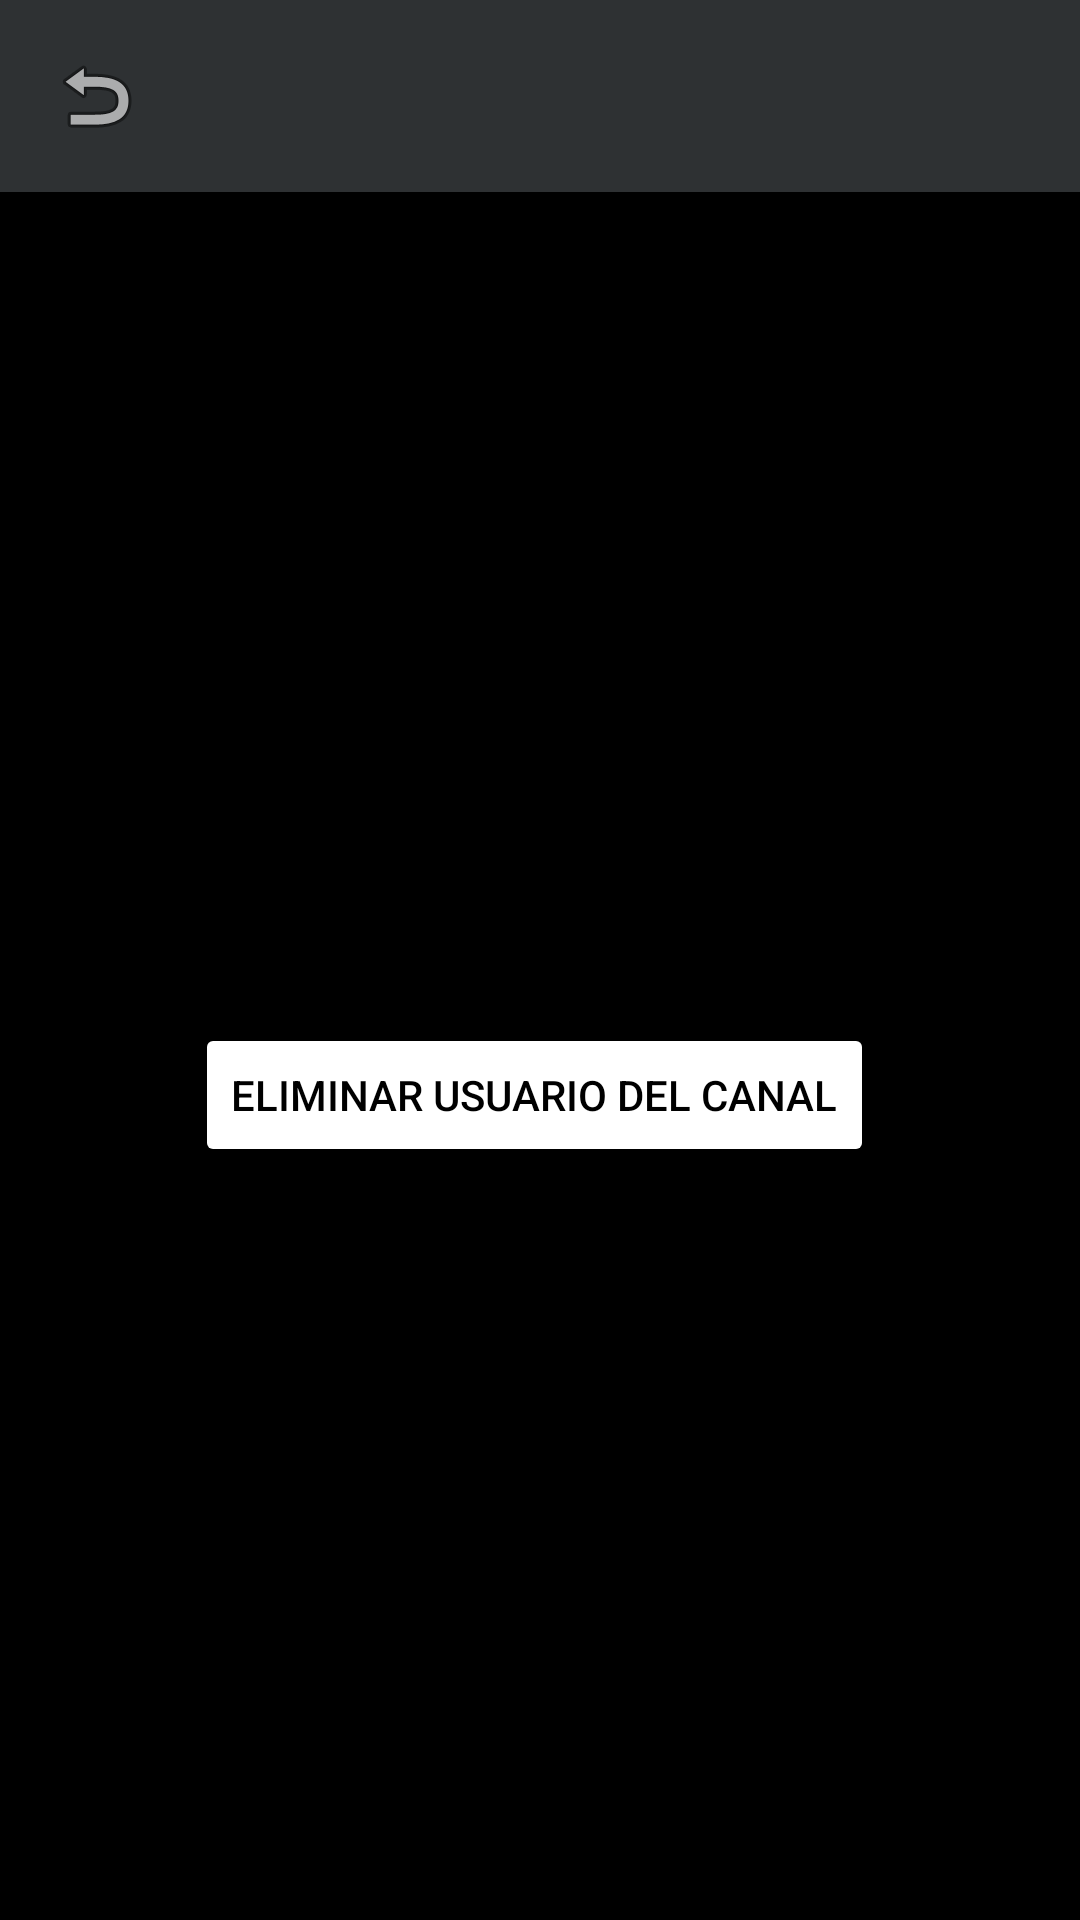

Named icons in this screenshot (1080px×1920px) and their centers, (x=x, y=y):
revert: (x=97, y=97)
